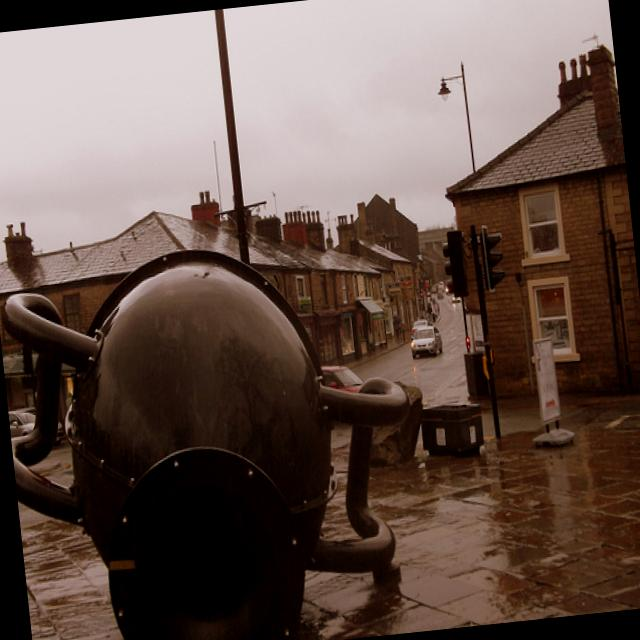Vehicle: (321, 360, 365, 397), (409, 324, 445, 359), (8, 406, 38, 444), (409, 316, 430, 338), (451, 291, 461, 303), (444, 282, 450, 294), (436, 290, 443, 298)
